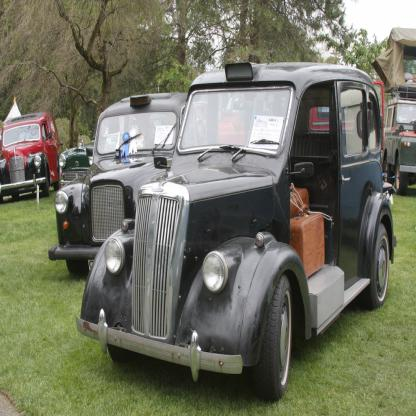Car: (0, 62, 416, 400)
